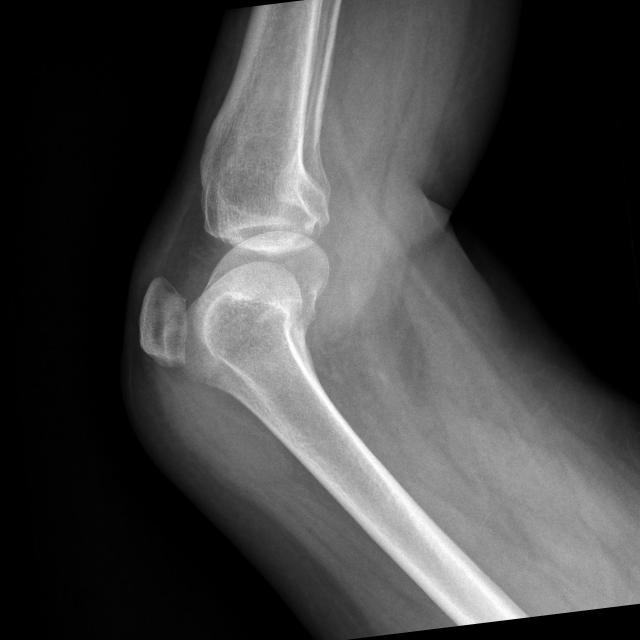Knee: (119, 166, 354, 377)
